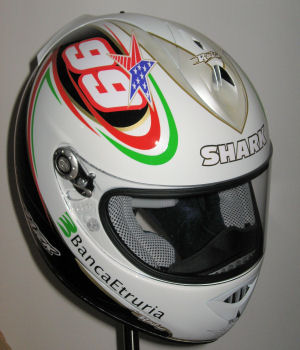helmet: (22, 27, 267, 337)
